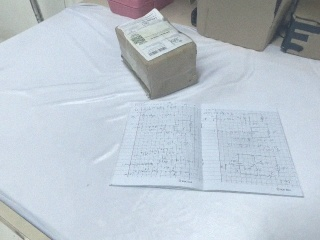box: (115, 5, 199, 99), (195, 1, 298, 53), (279, 1, 320, 63)
